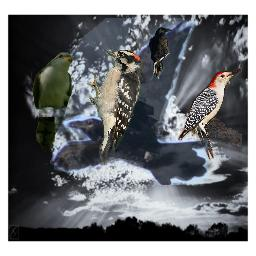Crow: (50, 18, 208, 185), (149, 27, 173, 80)
Cuckoo: (32, 52, 74, 151)
Woodpecker: (87, 50, 143, 165), (177, 68, 242, 161)
